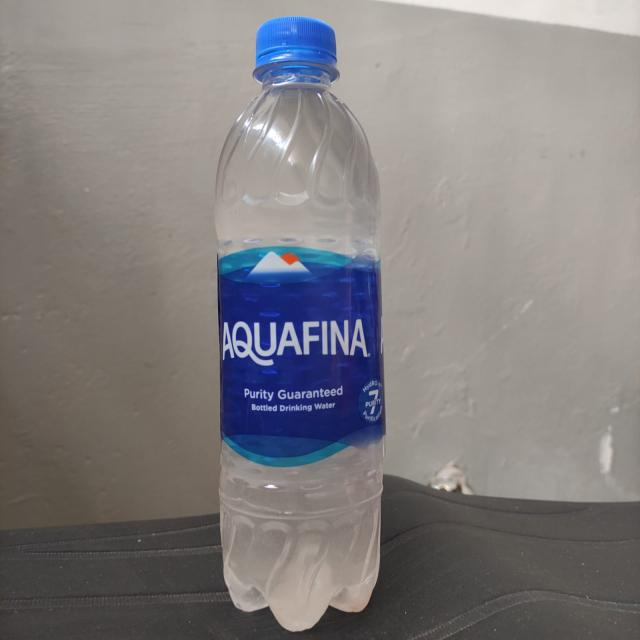bottle: (217, 14, 384, 637)
cap: (255, 22, 342, 92)
label: (221, 264, 391, 465)
